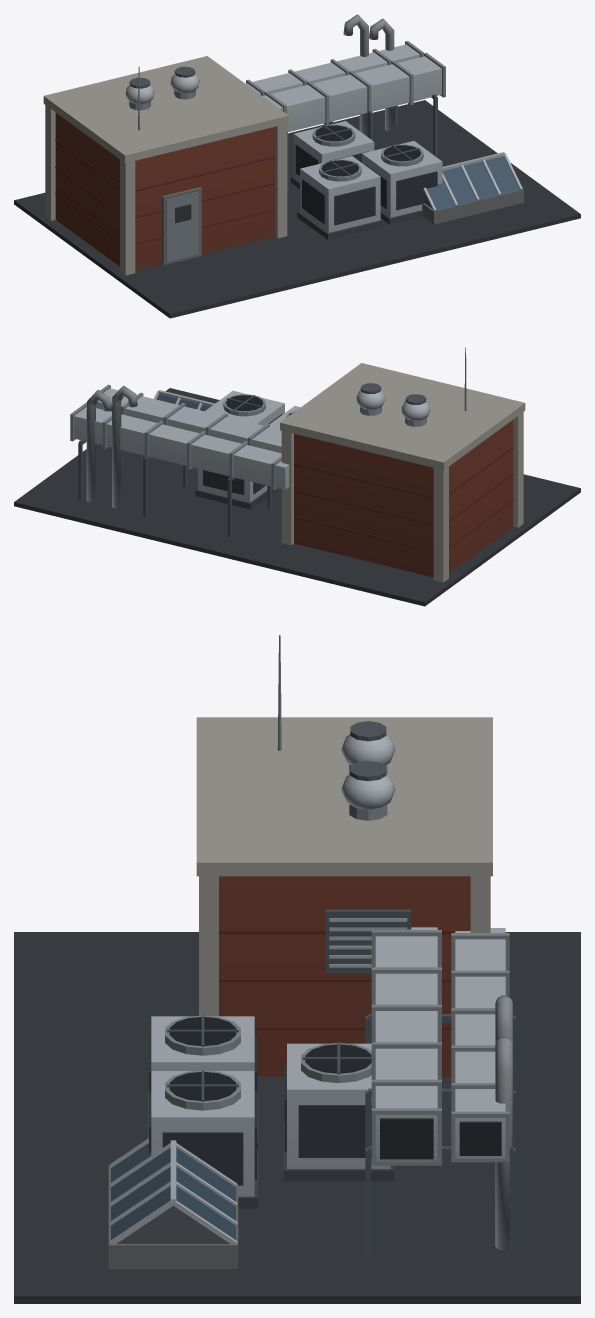
File: rooftop_set.glb
3 views of the same model, one above another, from view 1: azimuth 30°, elevation 25°; view 2: azimuth 150°, elevation 25°; view 3: azimuth 270°, elevation 25° (orthographic). The views are drawn at different scales.
Parts seen in each view (by area): view 1: rooftop_set; view 2: rooftop_set; view 3: rooftop_set.
Boxes of the visible parts, box(x1,y1,x2,y2) form: rooftop_set: box(14, 14, 580, 318); rooftop_set: box(14, 347, 580, 606); rooftop_set: box(14, 635, 580, 1303).
Size of the model in its own units: 14.6 by 6.38 by 9.6.
